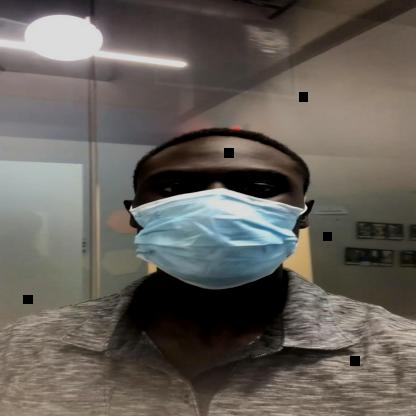mask: (129, 134, 310, 287)
